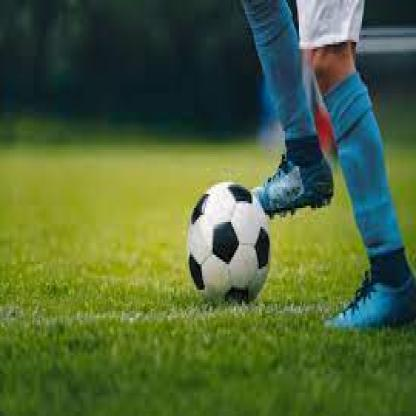ball: (187, 183, 271, 305)
